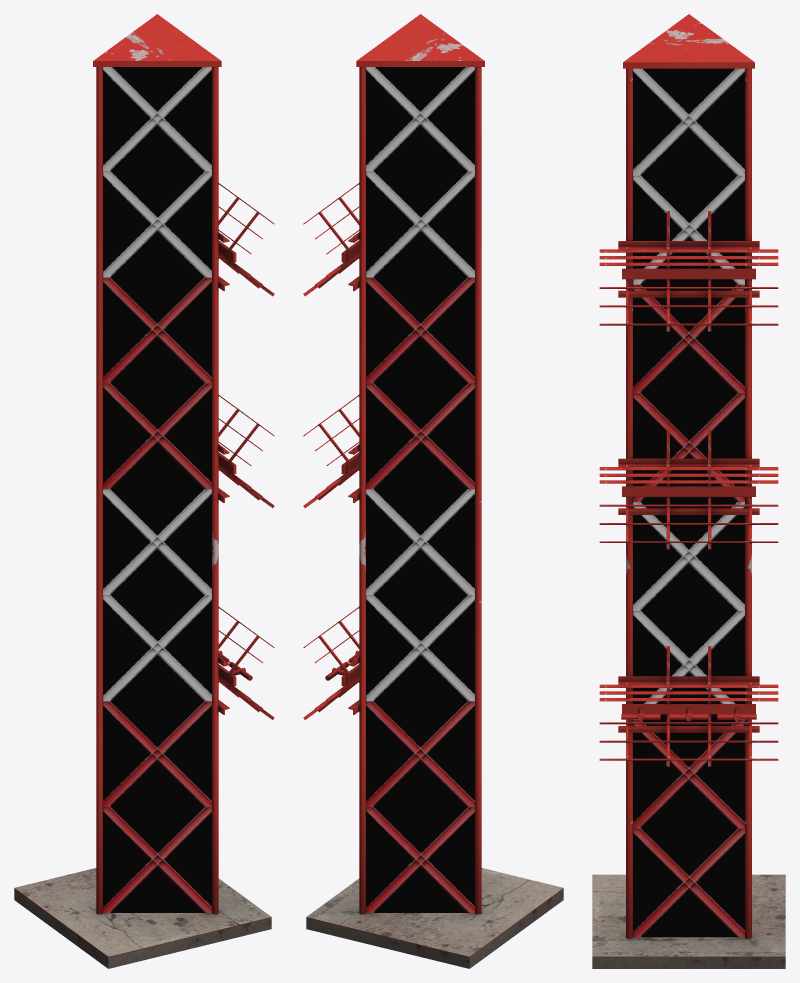
The model's file is Glideslope_Antenna.gltf.
3 renders of one model, left to right at view 1: azimuth 30°, elevation 25°; view 2: azimuth 150°, elevation 25°; view 3: azimuth 270°, elevation 25°, orthographic. The views are drawn at different scales.
Parts seen in each view (by area): view 1: Glideslope_Antenna; view 2: Glideslope_Antenna; view 3: Glideslope_Antenna.
Boxes of the visible parts, x1,y1,x2,y2 form: Glideslope_Antenna: (14, 14, 274, 968); Glideslope_Antenna: (303, 14, 563, 968); Glideslope_Antenna: (592, 14, 785, 968).
Size of the model in its own units: 2.94 by 14.3 by 2.82.
Materials: 1 (1 with a texture image).
